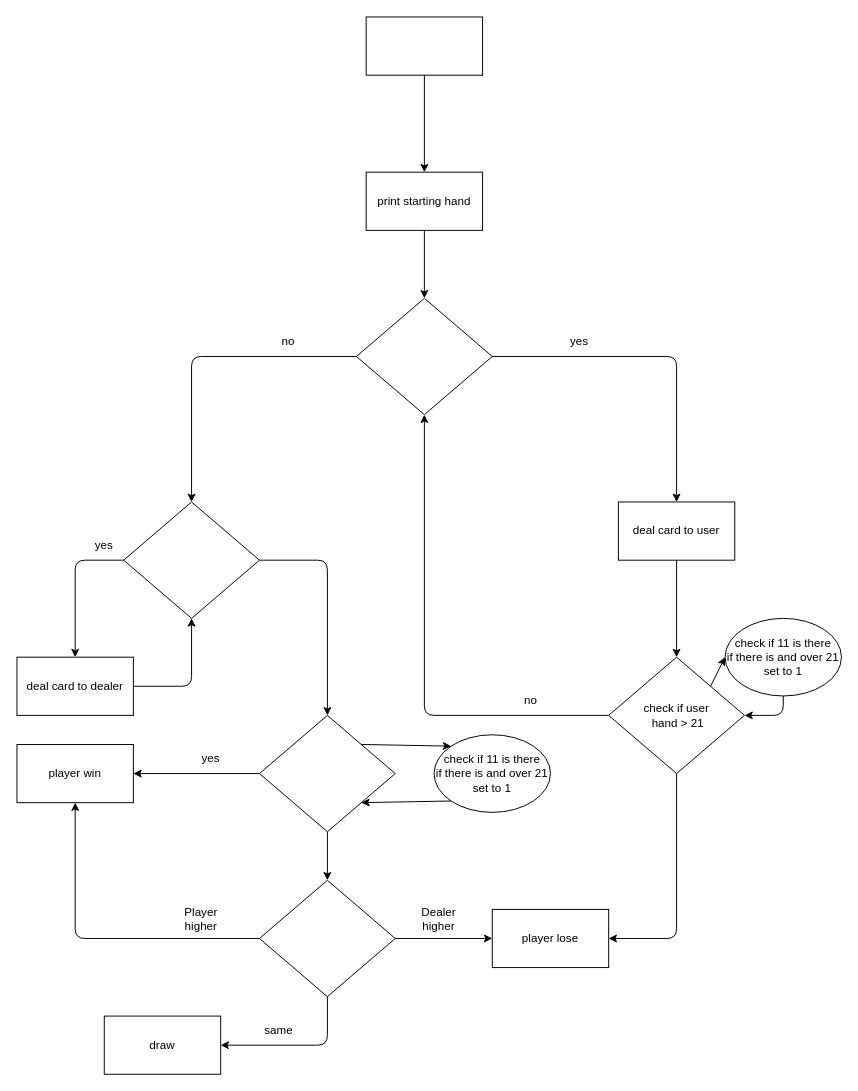
This 858x1091 diagram has some shape labels left out. Here are the shapes that lost their labels. From the top down, the centre of each, then its label:
At point 424,45: "Deal starting hand".
At point 424,356: "ask user if they want another card".
At point 191,559: "check if dealer hand < 17".
At point 327,773: "check if dealer hand > 21".
At point 327,938: "sum and compare hands".
